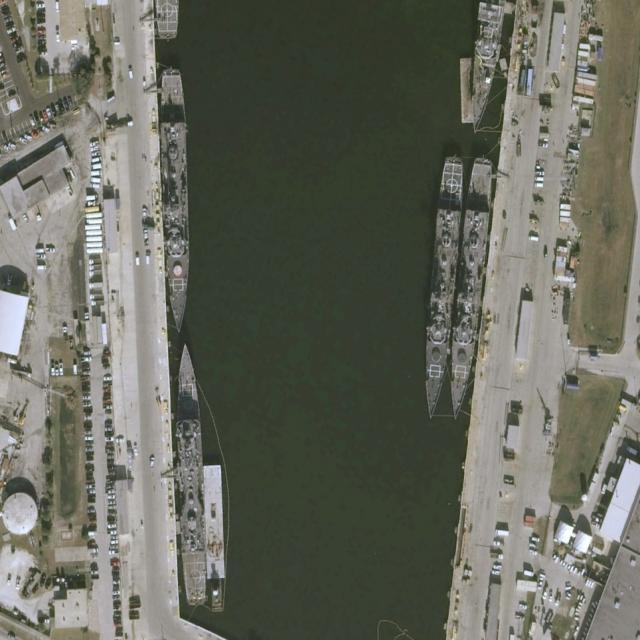Frigate: (445, 154, 494, 422), (419, 153, 465, 423), (170, 342, 210, 606), (158, 67, 194, 333)
